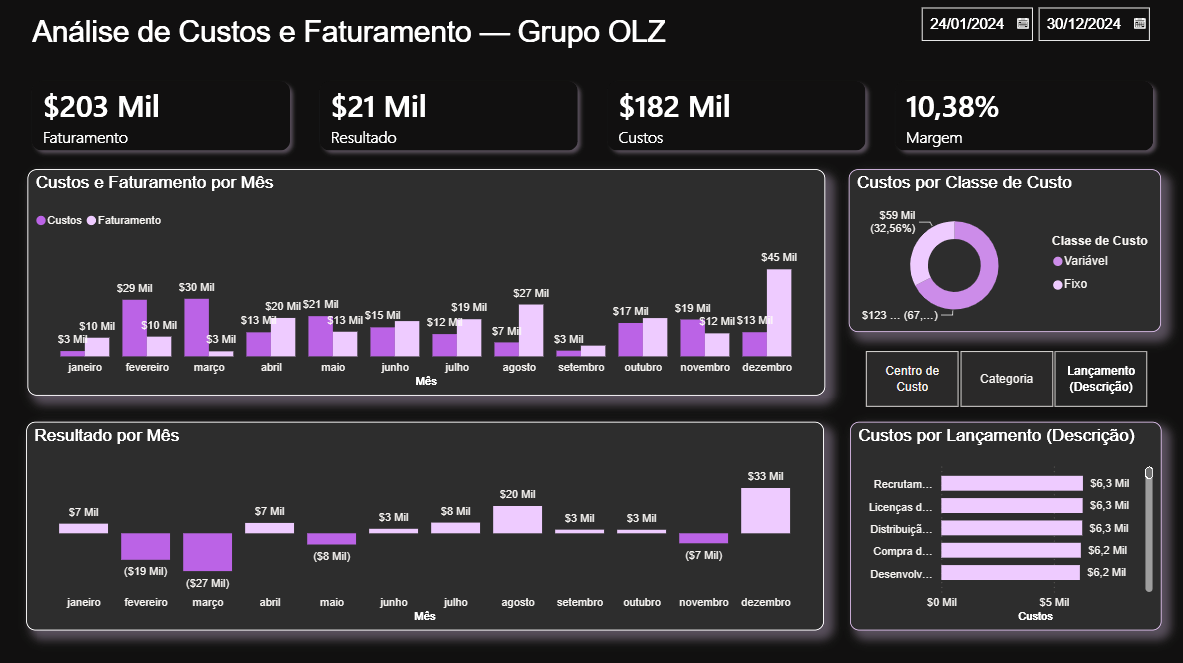

The page's visual inventory and layout, read from the dashboard file:
{"tool":"powerbi","page":{"name":"Página 1","canvas":[1280,720],"ordinal":0},"visuals":[{"type":"textbox","box":[30.2,14.5,401.7,64.7],"z":0},{"type":"cardVisual","fields":{"Data":["Financeiro (2).Faturamento","Financeiro (2).Resultado","Financeiro (2).Custos","Financeiro (2).Margem"]},"box":[13.3,68.8,1255.9,117],"z":1000},{"type":"clusteredColumnChart","fields":{"Category":["Financeiro (2).Data.Variation.Hierarquia de datas.Mês"],"Y":["Financeiro (2).Resultado"]},"box":[29,458.4,862.6,225.6],"z":3000},{"type":"donutChart","fields":{"Y":["Financeiro (2).Custos"],"Category":["Financeiro (2).Classe de Custo"]},"box":[916.9,185.8,337.8,176.1],"z":4000},{"type":"slicer","fields":{"Values":["Parâmetro Financeiro.Parâmetro Financeiro"]},"box":[912.1,377.6,352.3,70],"z":5000},{"type":"clusteredBarChart","fields":{"Category":["Financeiro (2).Centro de Custo"],"Y":["Financeiro (2).Custos"]},"box":[919.3,458.4,336.6,225.6],"z":6000},{"type":"slicer","fields":{"Values":["Financeiro (2).Data"]},"box":[984.5,0,270.2,54.3],"z":7000},{"type":"clusteredColumnChart","fields":{"Y":["Financeiro (2).Custos","Financeiro (2).Faturamento"],"Category":["Financeiro (2).Data.Variation.Hierarquia de datas.Mês"]},"box":[30.2,185.8,862.6,244.9],"z":7001}]}

Visuals, with their boxes in screenshot pixels (x1, y1, x2, y2), scaled from the page's 1280x720 canvas onto the 1183x663 screenshot:
textbox: crop(28, 13, 399, 73)
cardVisual - Financeiro (2).Faturamento x Financeiro (2).Resultado: crop(12, 63, 1173, 171)
clusteredColumnChart - Financeiro (2).Data.Variation.Hierarquia de datas.Mês x Financeiro (2).Resultado: crop(27, 422, 824, 630)
donutChart - Financeiro (2).Custos x Financeiro (2).Classe de Custo: crop(847, 171, 1160, 333)
slicer - Parâmetro Financeiro.Parâmetro Financeiro: crop(843, 348, 1169, 412)
clusteredBarChart - Financeiro (2).Centro de Custo x Financeiro (2).Custos: crop(850, 422, 1161, 630)
slicer - Financeiro (2).Data: crop(910, 0, 1160, 50)
clusteredColumnChart - Financeiro (2).Custos x Financeiro (2).Faturamento: crop(28, 171, 825, 397)
